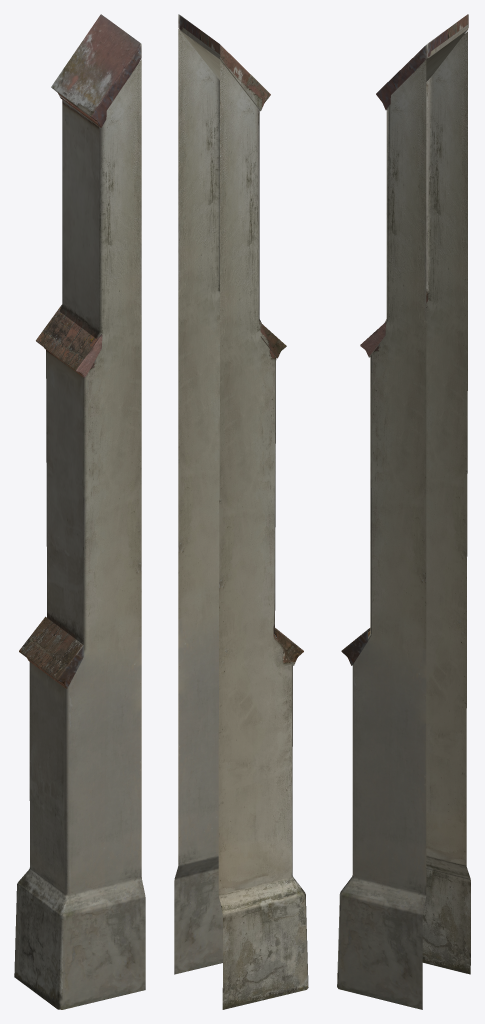
File: sm_Church_01_26.fbx
The picture shows the model from 3 angles, left to right: view 1: azimuth 30°, elevation 25°; view 2: azimuth 210°, elevation 25°; view 3: azimuth 330°, elevation 25°; orthographic projection. The views are drawn at different scales.
Parts seen in each view (by area): view 1: sm_Church_01_26_LOD0; view 2: sm_Church_01_26_LOD0; view 3: sm_Church_01_26_LOD0.
Boxes of the visible parts, bbox=[...] form: sm_Church_01_26_LOD0: bbox=[14, 14, 145, 1009]; sm_Church_01_26_LOD0: bbox=[174, 14, 308, 1009]; sm_Church_01_26_LOD0: bbox=[337, 14, 470, 1009].
Size of the model in its own units: 72.31 by 69.7 by 759.
